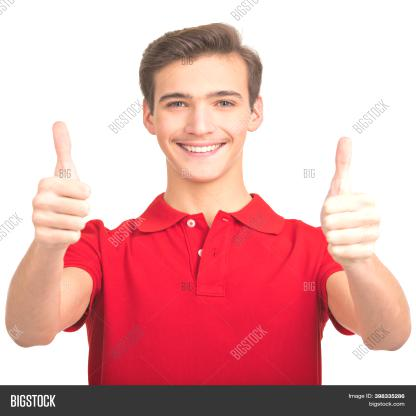Thumbs up: (28, 109, 104, 238), (307, 132, 381, 264)
